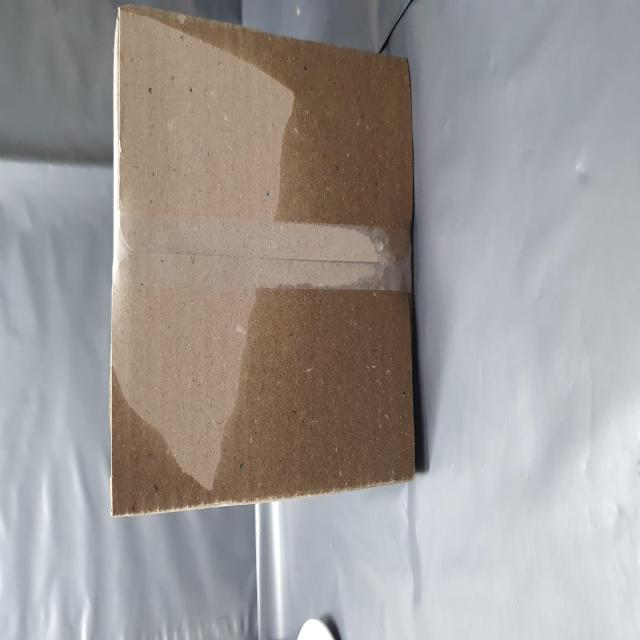wet: (72, 203, 193, 640), (237, 299, 345, 640)
